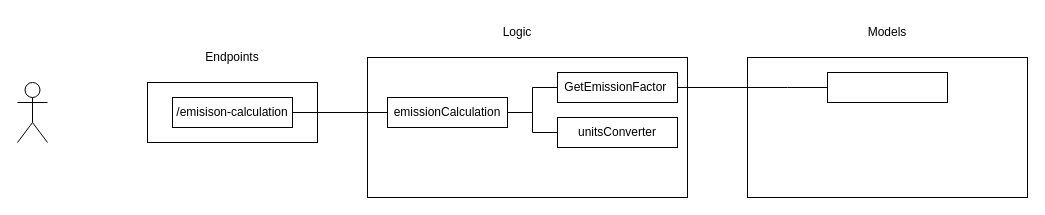
This 1045x215 diagram has some shape labels left out. Here are the shapes that lost their labels. From the top down, the box of each, then its label:
(826, 72, 948, 102): EmissionFactor
(16, 82, 48, 142): Actor
